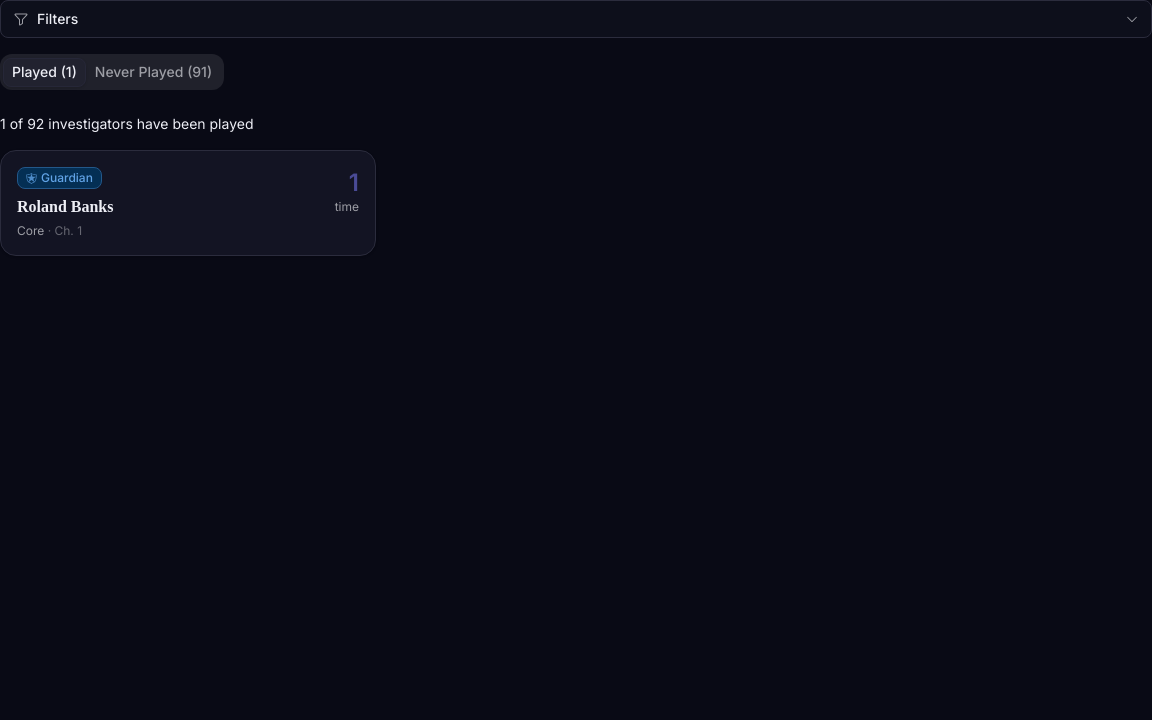
PlayersOverview — tab navigation (D13-D17) › switching to "Never Played" tab shows that panel
Click the tab "Never Played (91)" at [153, 72], box [86,58,221,86]
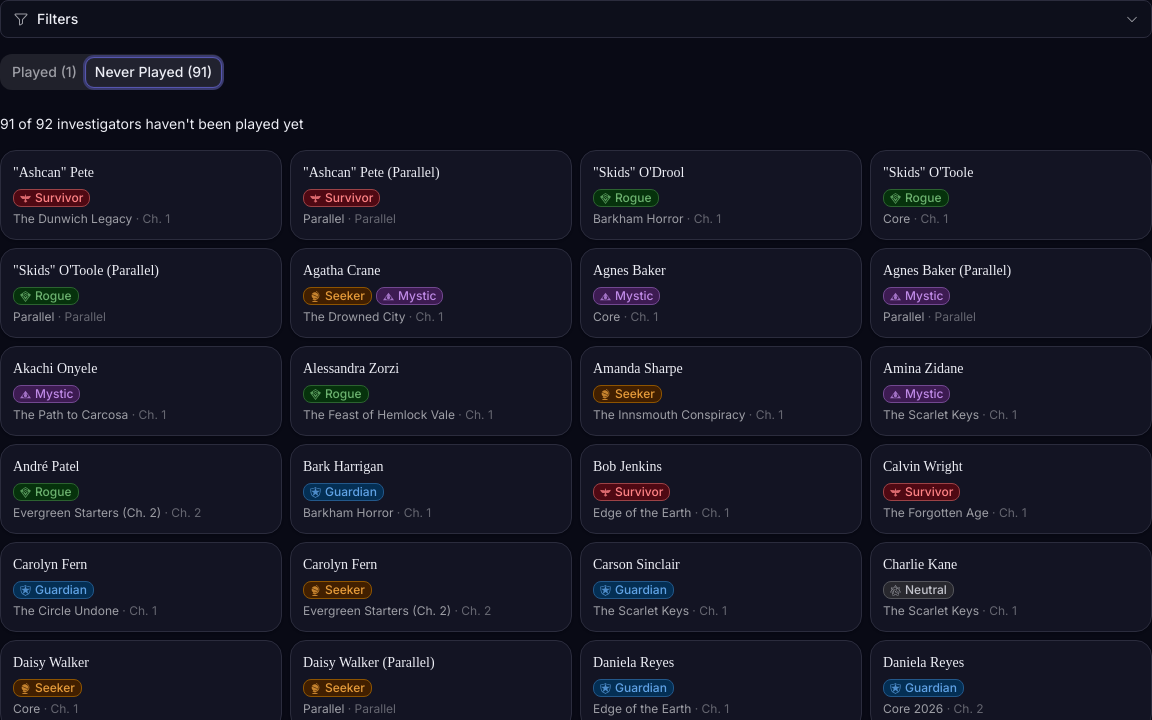
Expected: the text "91 of 92 investigators haven't been played yet" is shown, [0,115,304,132]
